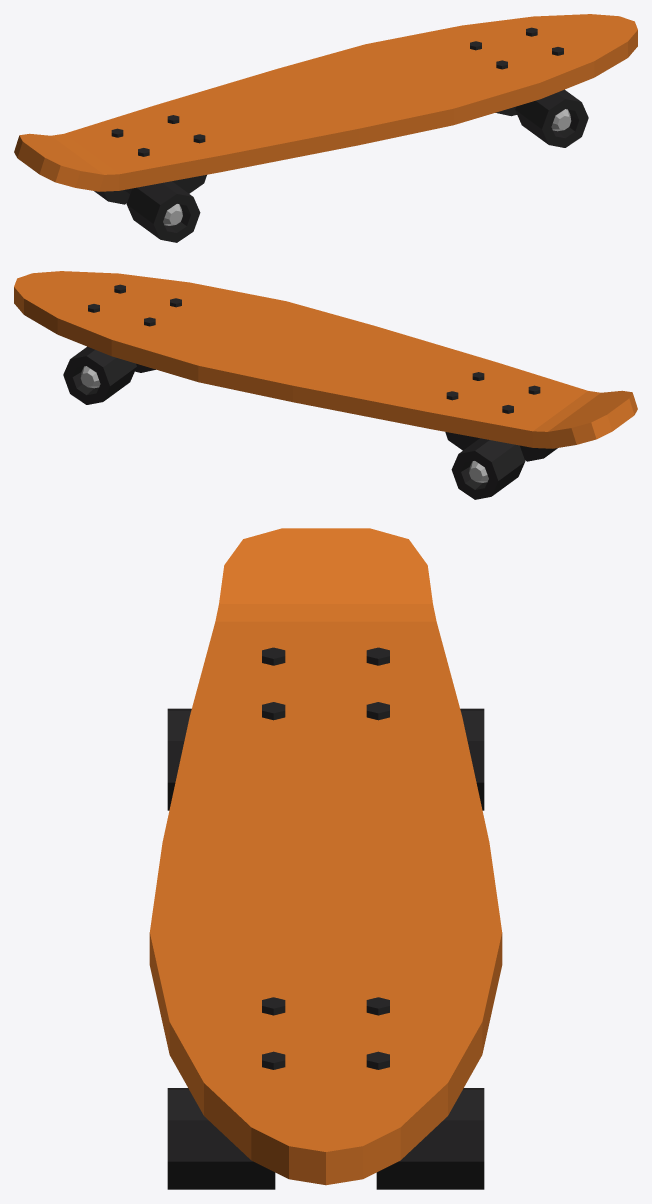
Rendered from SM_Skateboard_01.glb.
3 renders of one model, top to bottom at view 1: azimuth 30°, elevation 25°; view 2: azimuth 150°, elevation 25°; view 3: azimuth 270°, elevation 25°, orthographic. The views are drawn at different scales.
Parts seen in each view (by area): view 1: SM_Skateboard_01; view 2: SM_Skateboard_01; view 3: SM_Skateboard_01.
Part boxes in pixels (x1=…): SM_Skateboard_01: x1=14, y1=14, x2=637, y2=242; SM_Skateboard_01: x1=14, y1=271, x2=637, y2=499; SM_Skateboard_01: x1=149, y1=528, x2=502, y2=1189.
Size of the model in its own units: 0.8411 by 0.1188 by 0.2117.
Materials: 1 (1 with a texture image).
